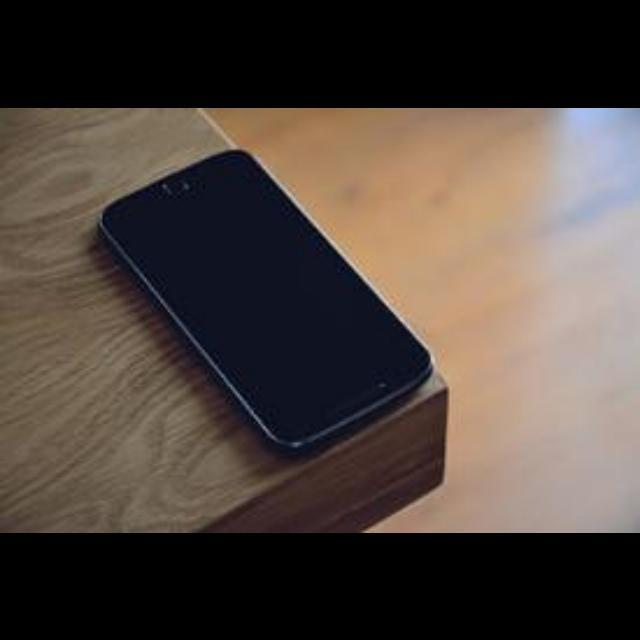phone: (89, 128, 482, 486)
